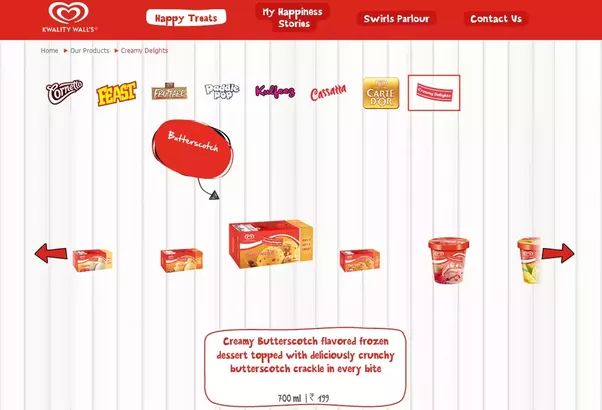Kwality_Walls: (40, 1, 92, 29)
